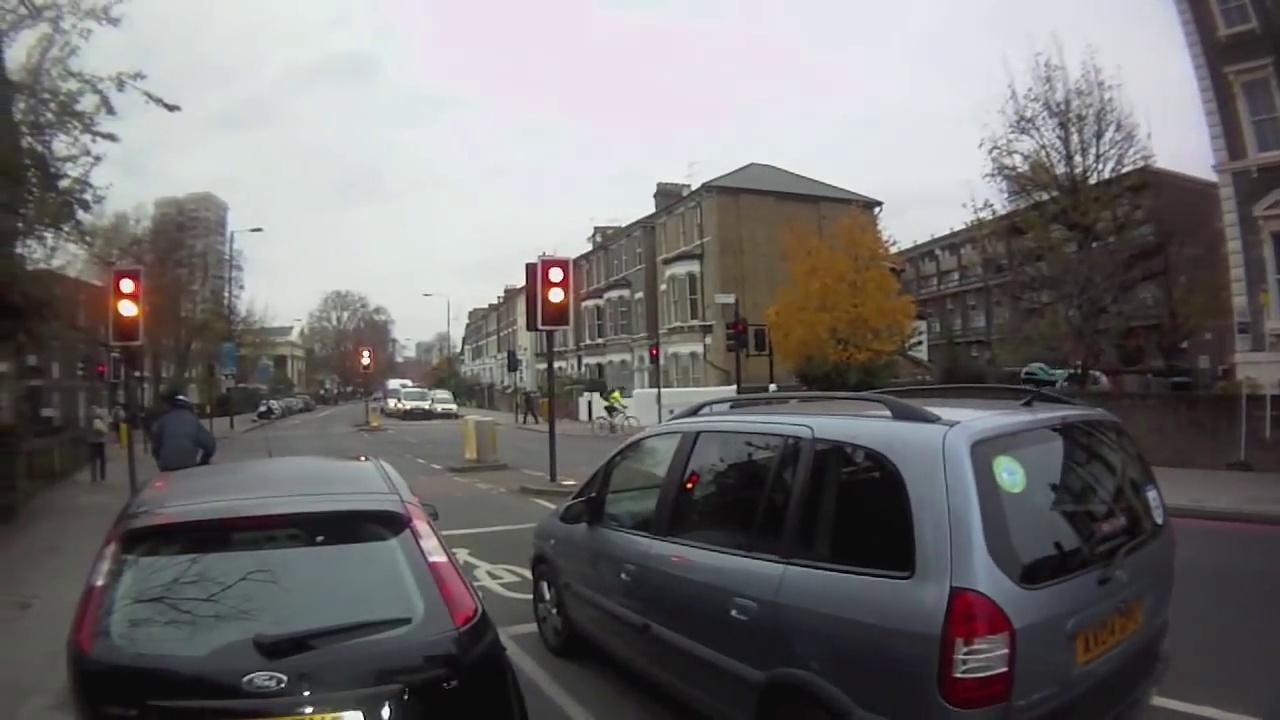cyclist_side: (588, 383, 645, 439)
